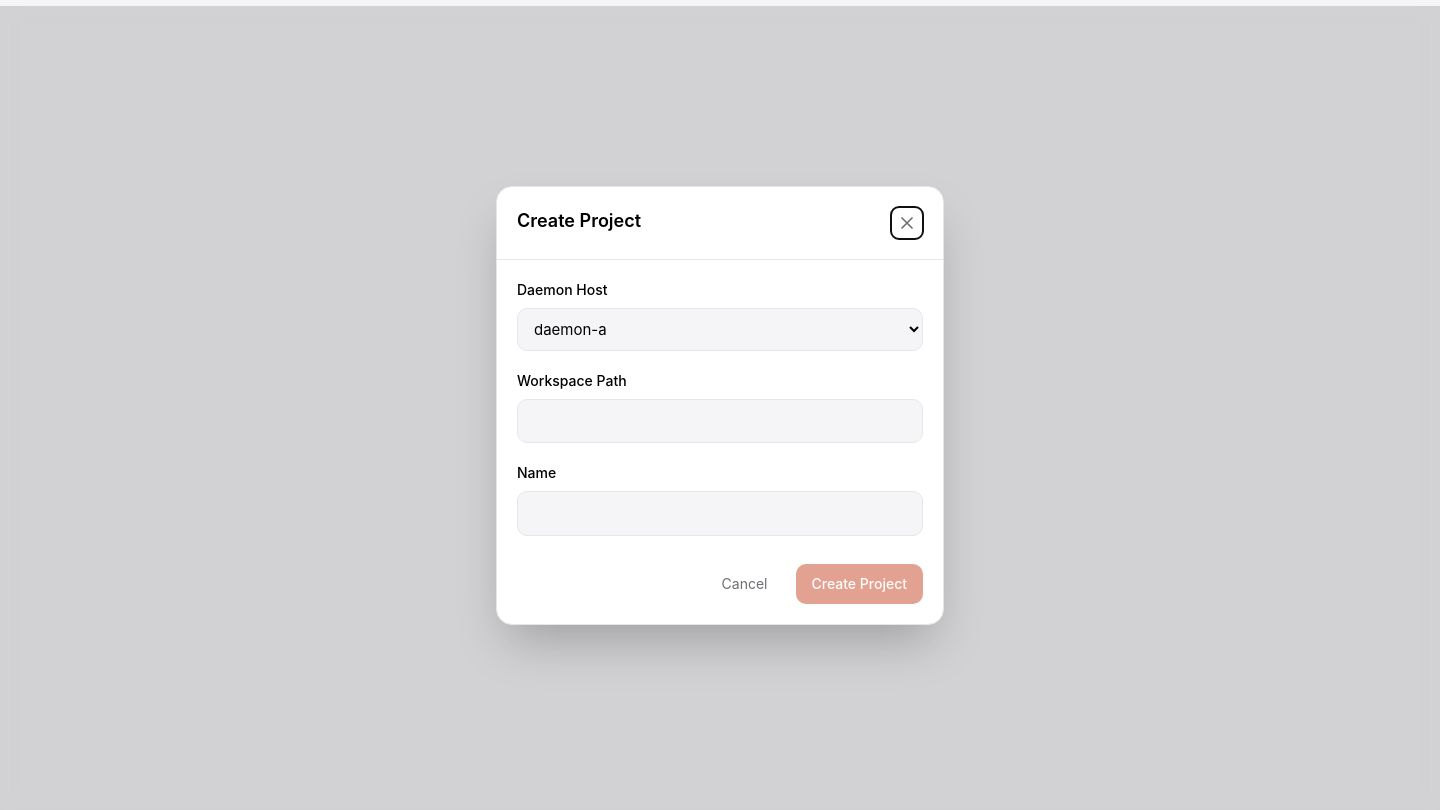
Test case: CreateProjectDialog › hides the create-directory prompt once the path is edited
This screenshot has width=1440, height=810.
Type "/repo/typo" into the field labelled "Workspace Path" at {"x": 720, "y": 421}, box [517,398,923,443]
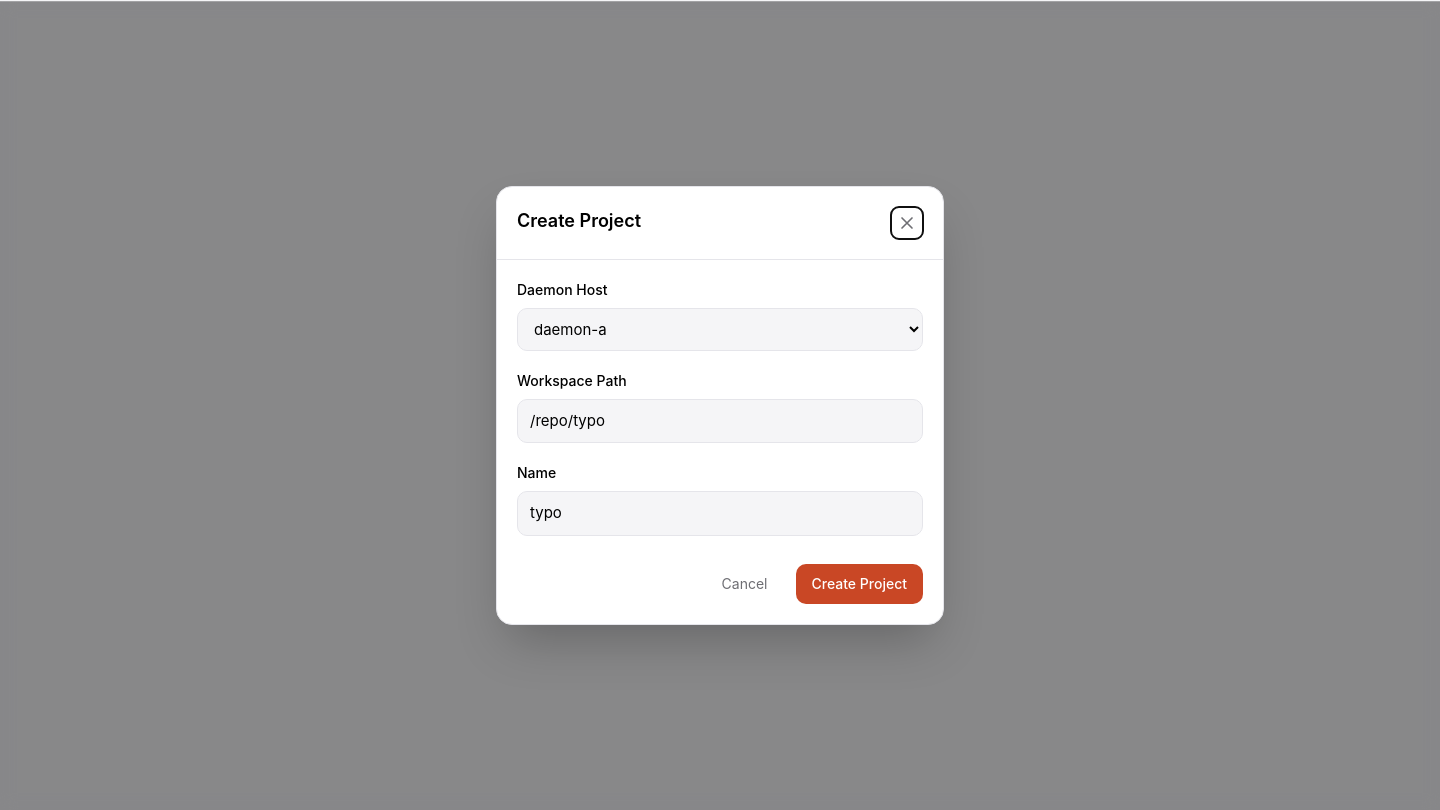
Click the button "Create Project" at {"x": 859, "y": 584}, box [796,564,923,604]
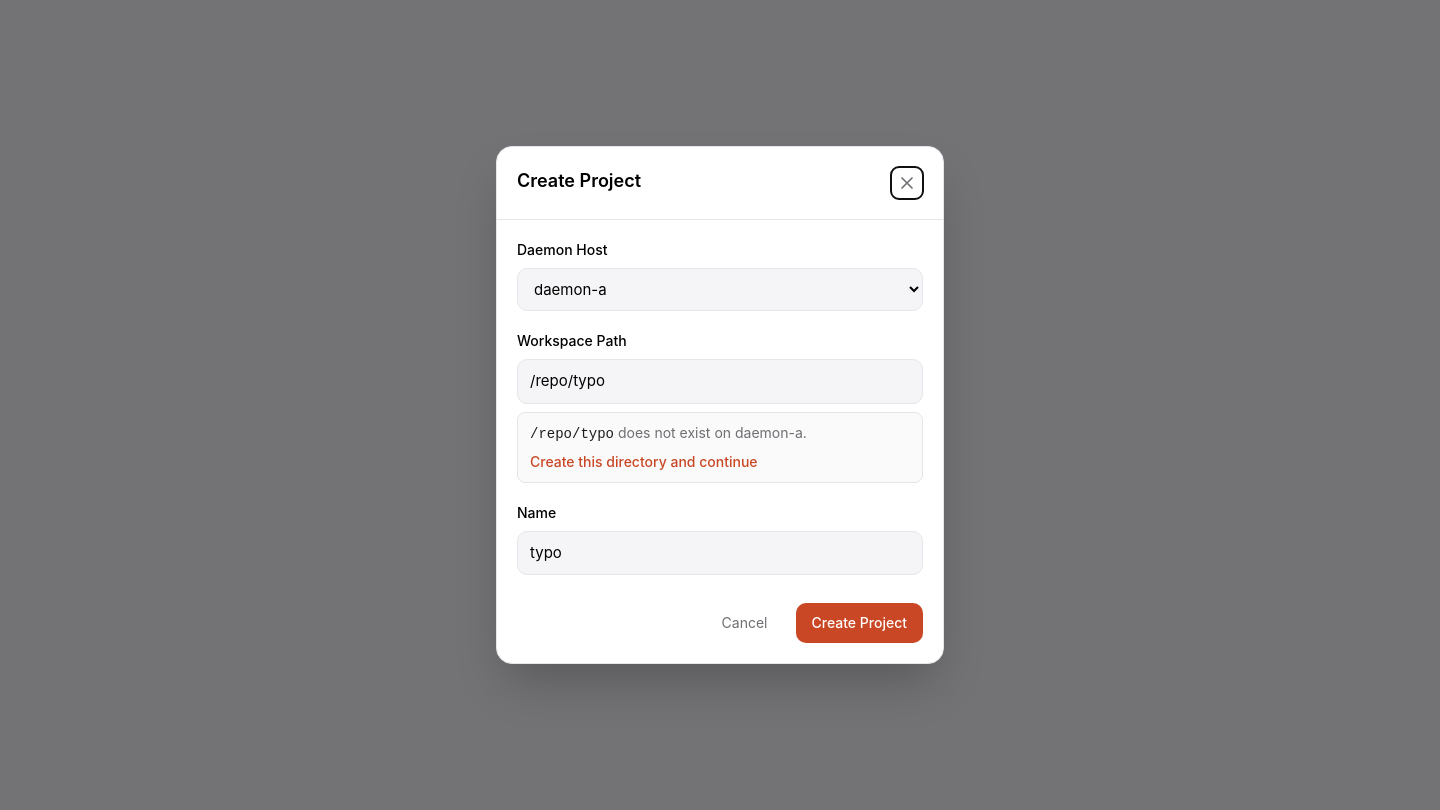
Expected: the button "Create this directory and continue" is shown, [530,452,758,472]
Replace the text in the field labelled "Workspace Path" with "/repo/correct" at {"x": 720, "y": 381}, box [517,359,923,404]
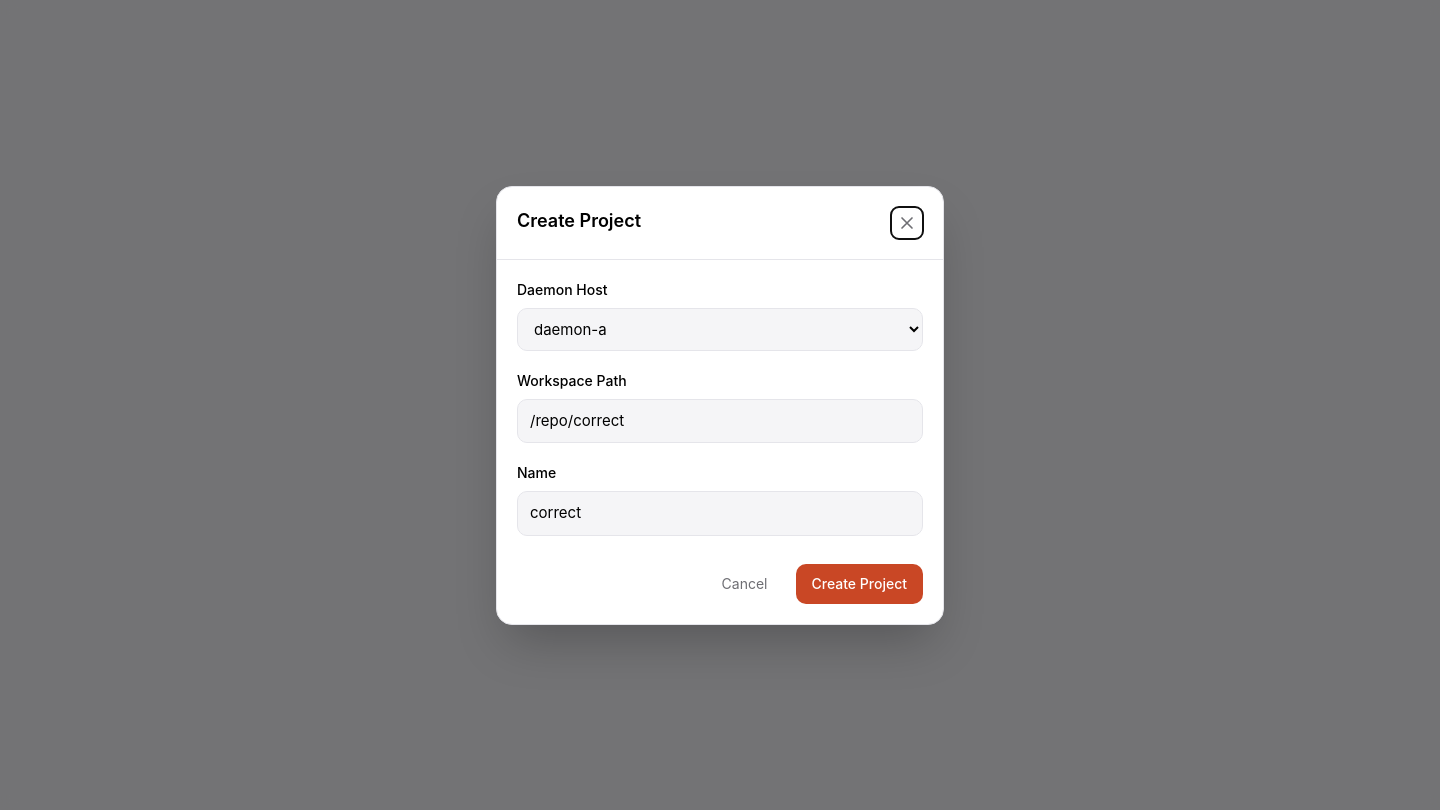
Expected: the button "Create this directory and continue" is gone
